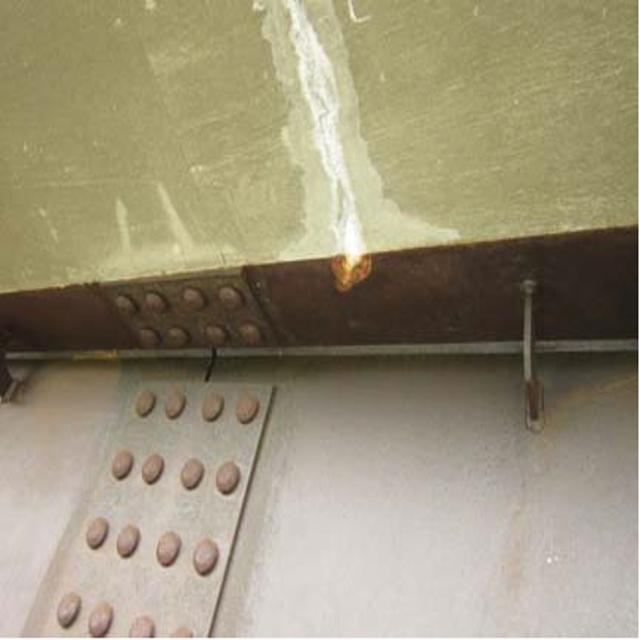freelime: (280, 8, 376, 292)
